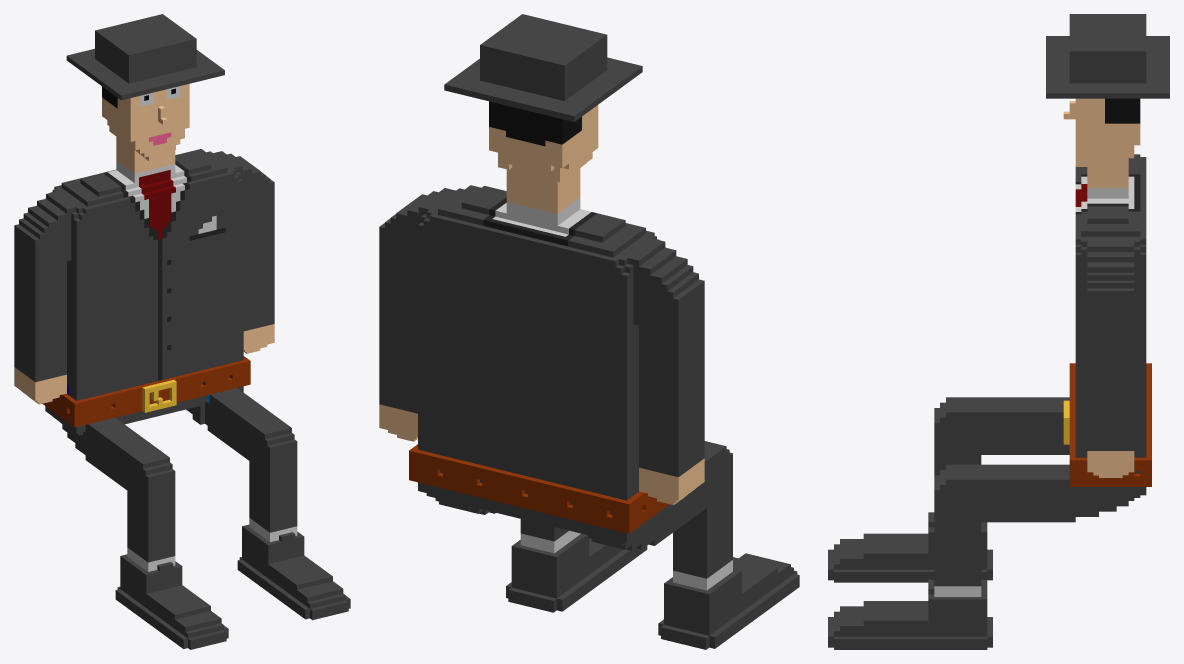
File: boss-sitting-1.gltf
3 renders of one model, left to right at view 1: azimuth 30°, elevation 25°; view 2: azimuth 150°, elevation 25°; view 3: azimuth 270°, elevation 25°, orthographic. The views are drawn at different scales.
Visible parts, largest first — view 1: Node; view 2: Node; view 3: Node.
Part boxes in pixels (left/top/right/bottom): Node: left=14, top=14, right=350, bottom=649; Node: left=379, top=14, right=799, bottom=649; Node: left=828, top=14, right=1169, bottom=649.
Size of the model in its own units: 5.3 by 10.7 by 5.8.
Materials: 1 (1 with a texture image).
